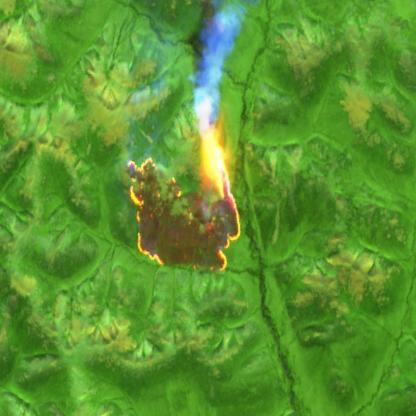fire: (123, 120, 246, 279)
